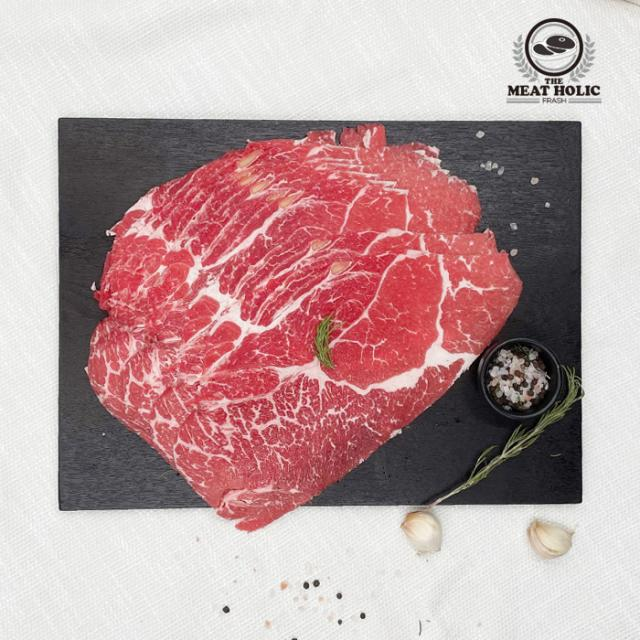beef: (123, 269, 296, 473)
